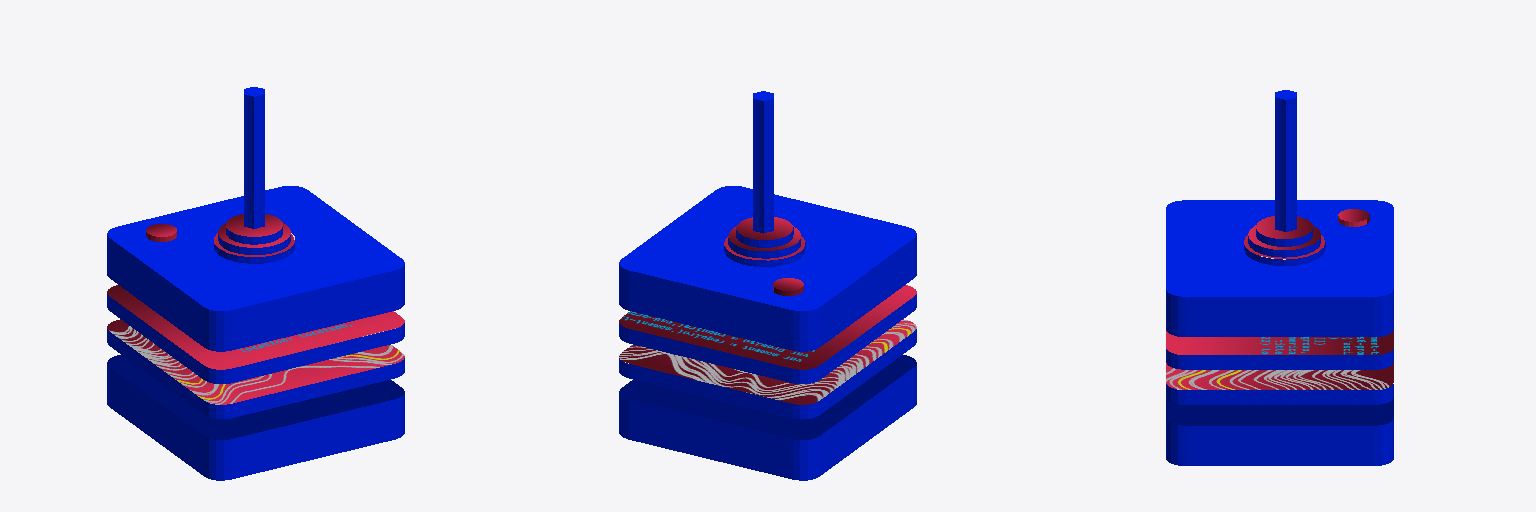
3 renders of one model, left to right at view 1: azimuth 30°, elevation 25°; view 2: azimuth 150°, elevation 25°; view 3: azimuth 270°, elevation 25°, orthographic.
Parts seen in each view (by area): view 1: stick pCube4, stick pCube5, stick pCube6, stick pCube7, stick pCylinder5, stick pCylinder4, stick pCylinder3, stick pCylinder2; view 2: stick pCube4, stick pCube5, stick pCube6, stick pCube7, stick pCylinder5, stick pCylinder4, stick pCylinder3, stick pCylinder2; view 3: stick pCube4, stick pCube5, stick pCube6, stick pCube7, stick pCylinder5, stick pCylinder4, stick pCylinder3, stick pCylinder2.
Boxes of the visible parts, box(x1,y1,x2,y2) form: stick pCube4: box(107, 186, 404, 351); stick pCube5: box(107, 355, 404, 480); stick pCube6: box(107, 319, 404, 419); stick pCube7: box(107, 285, 404, 383); stick pCylinder5: box(244, 87, 264, 228); stick pCylinder4: box(226, 214, 282, 244); stick pCylinder3: box(218, 223, 290, 254); stick pCylinder2: box(214, 233, 294, 263); stick pCube4: box(619, 186, 916, 351); stick pCube5: box(619, 355, 916, 480); stick pCube6: box(619, 319, 916, 419); stick pCube7: box(619, 285, 916, 383); stick pCylinder5: box(753, 91, 773, 233); stick pCylinder4: box(736, 217, 793, 247); stick pCylinder3: box(728, 226, 800, 258); stick pCylinder2: box(724, 236, 805, 266); stick pCube4: box(1166, 200, 1393, 336); stick pCube5: box(1166, 398, 1393, 465); stick pCube6: box(1166, 363, 1393, 404); stick pCube7: box(1166, 331, 1393, 369); stick pCylinder5: box(1275, 90, 1296, 231); stick pCylinder4: box(1256, 216, 1312, 246); stick pCylinder3: box(1248, 225, 1320, 257); stick pCylinder2: box(1244, 235, 1325, 265).
Size of the model in its own units: 8.07 by 12.61 by 8.07.
Materials: 7 (3 with a texture image).